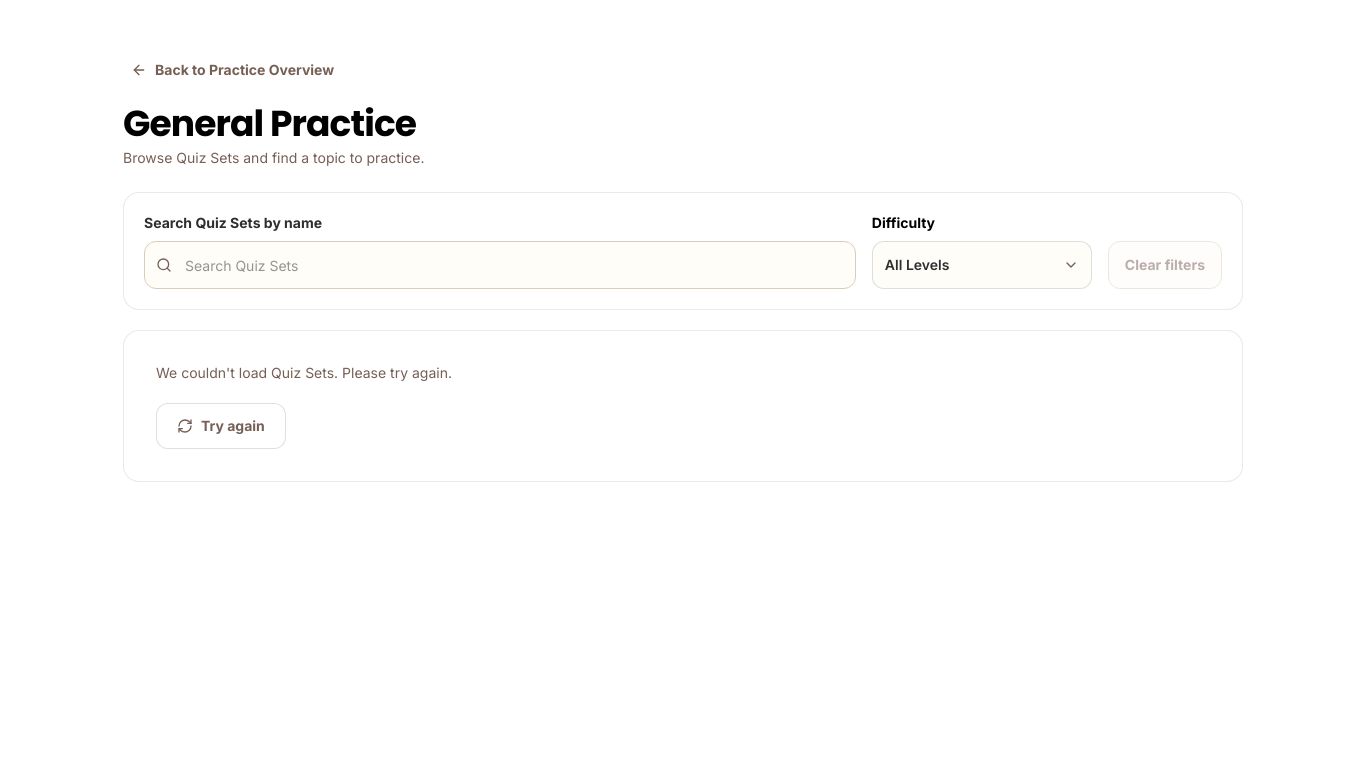
it: General Practice discovery › offers retry after a listing failure
Expected: the message shows "couldn't load", [156,364,452,381]
Click the button "Try again" at (221, 426), box [156,403,286,449]
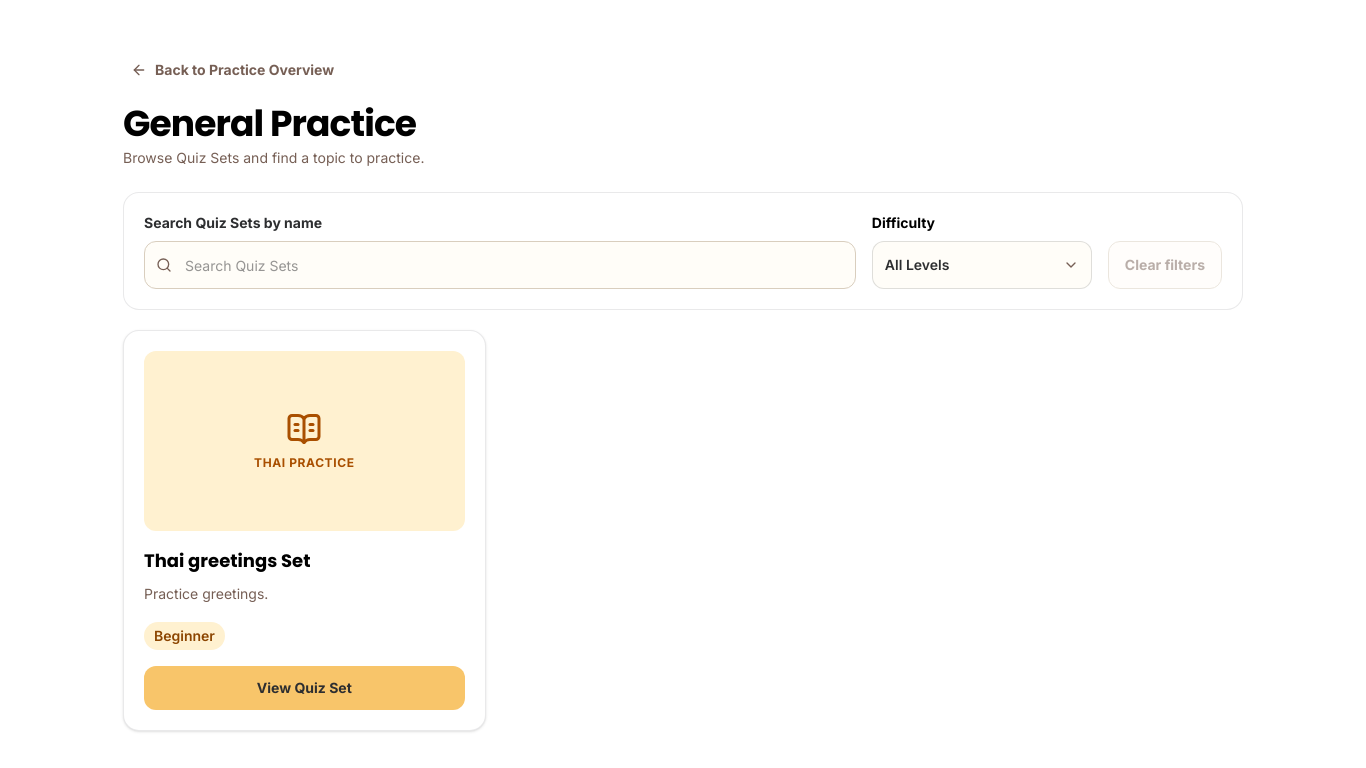
Expected: the heading "Thai greetings Set" is shown, [144,548,310,573]
